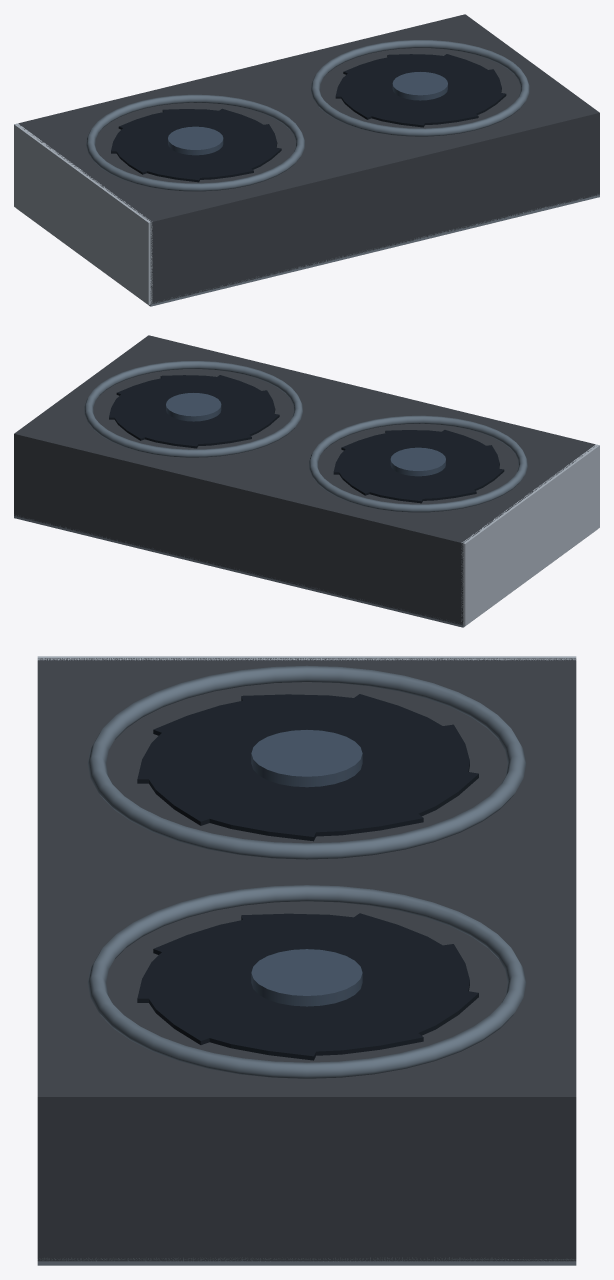
The model's file is retail-zotac-geforce-rtx-3060-twin-edge.glb.
3 renders of one model, top to bottom at view 1: azimuth 30°, elevation 25°; view 2: azimuth 150°, elevation 25°; view 3: azimuth 270°, elevation 25°, orthographic. The views are drawn at different scales.
Parts seen in each view (by area): view 1: Cooler shroud, Cooler blade (×18), Bracket, Fan rim (×2), Fan hub (×2), Backplate; view 2: Cooler shroud, Cooler blade (×18), Bracket, Fan rim (×2), Fan hub (×2), Backplate; view 3: Cooler shroud, Cooler blade (×18), Fan rim (×2), Fan hub (×2), Backplate, Bracket.
Part boxes in pixels (<box>): Cooler shroud: <box>18,14,599,304</box>; Cooler blade (×18): <box>111,54,506,182</box>; Bracket: <box>14,123,152,304</box>; Fan rim (×2): <box>86,40,529,191</box>; Fan hub (×2): <box>168,72,447,155</box>; Backplate: <box>20,194,599,306</box>; Cooler shroud: <box>14,335,595,625</box>; Cooler blade (×18): <box>109,375,504,503</box>; Bracket: <box>461,444,599,625</box>; Fan rim (×2): <box>84,361,527,512</box>; Fan hub (×2): <box>166,393,445,476</box>; Backplate: <box>14,514,593,627</box>; Cooler shroud: <box>37,658,576,1261</box>; Cooler blade (×18): <box>137,694,478,1060</box>; Fan rim (×2): <box>87,665,526,1078</box>; Fan hub (×2): <box>251,730,362,1006</box>; Backplate: <box>37,1257,576,1265</box>; Bracket: <box>37,656,576,660</box>.
Bounding box in the file's own units: 0.2251 × 0.0437 × 0.1163.
